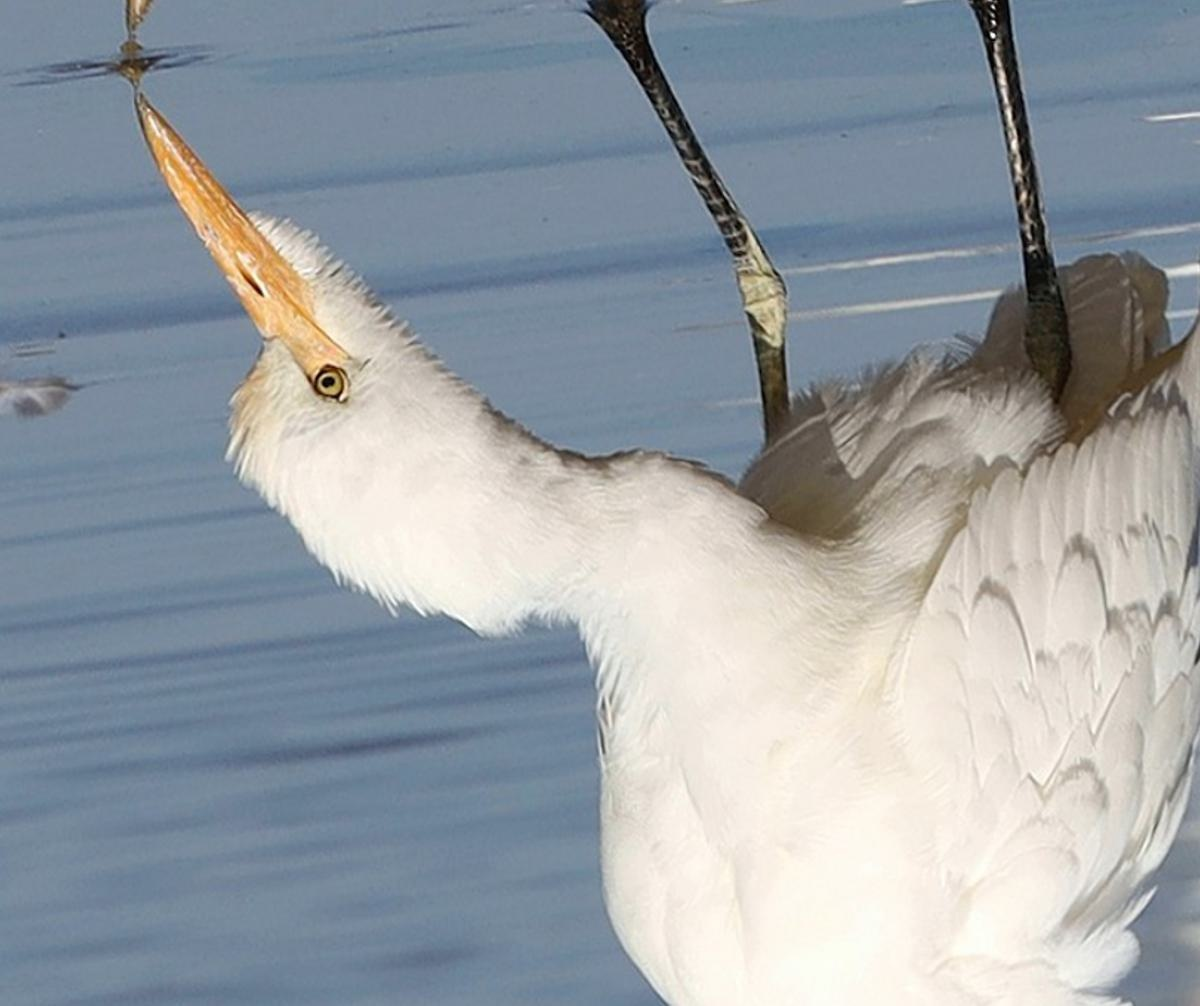egret: (124, 51, 1200, 1006)
